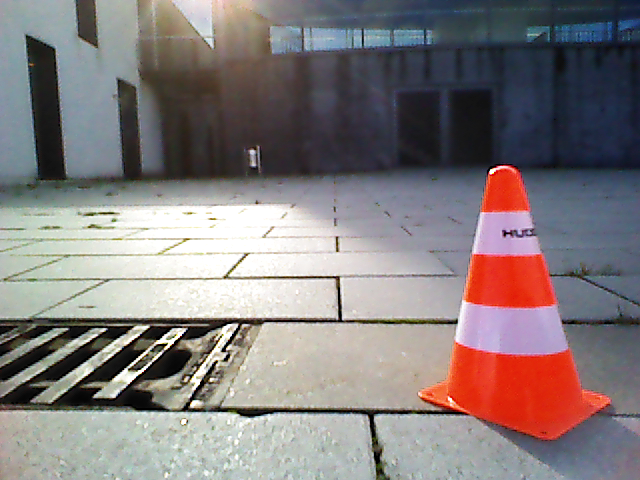orangeconesmall: (449, 162, 584, 421)
